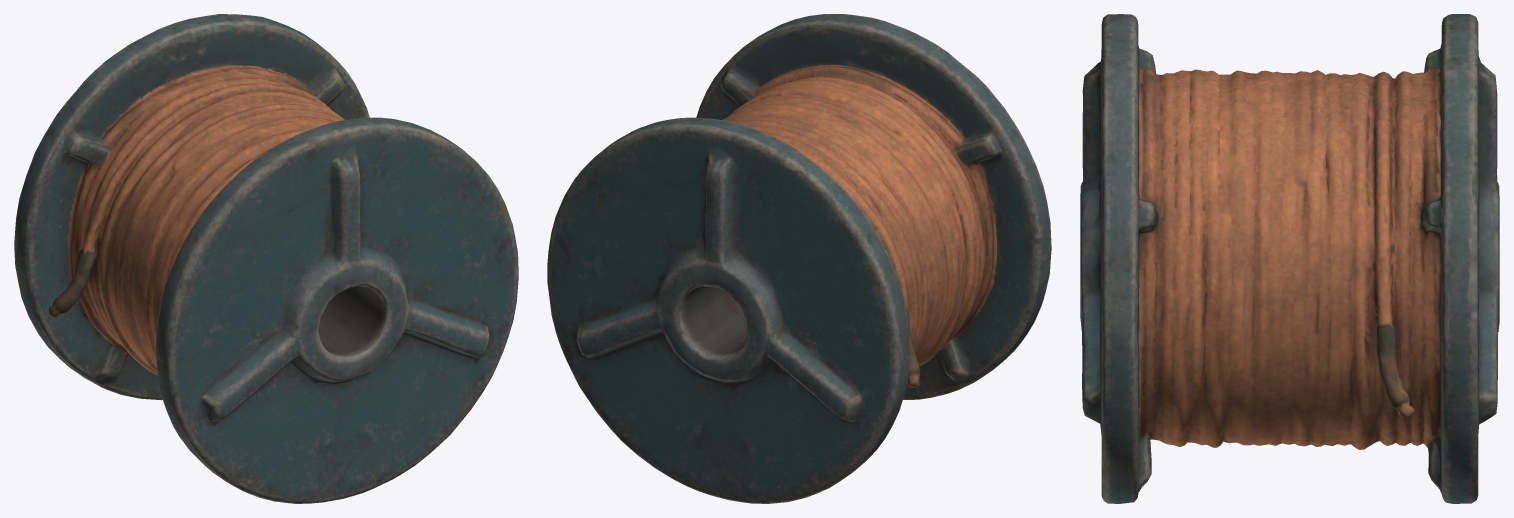
The model's file is raw.glb.
The picture shows the model from 3 angles, left to right: view 1: azimuth 30°, elevation 25°; view 2: azimuth 150°, elevation 25°; view 3: azimuth 270°, elevation 25°; orthographic projection. The views are drawn at different scales.
Bounding box in the file's own units: 1.01 × 1.01 × 0.8647.
1 material, 1 textured.
